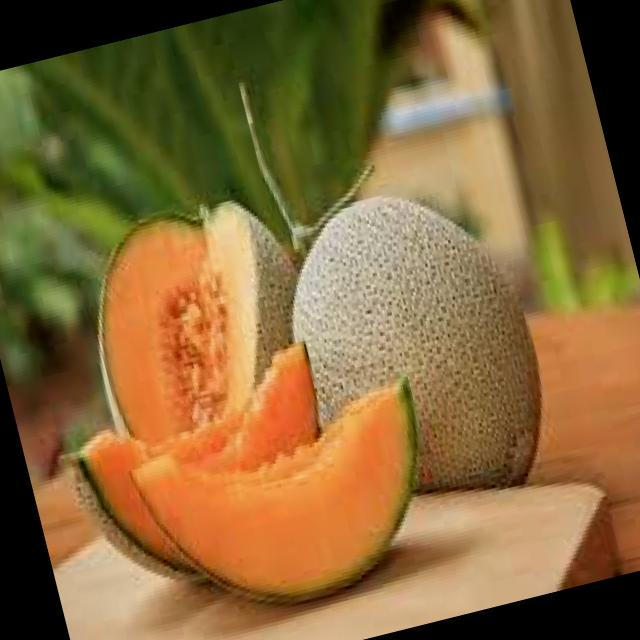cantaloupe: (269, 170, 564, 530), (126, 380, 454, 635), (54, 342, 353, 600), (71, 188, 323, 448)
